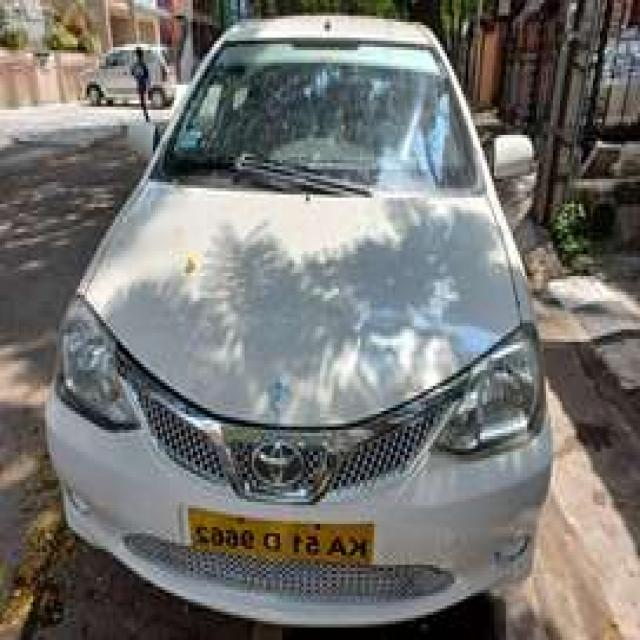license_plate: (183, 504, 379, 574)
